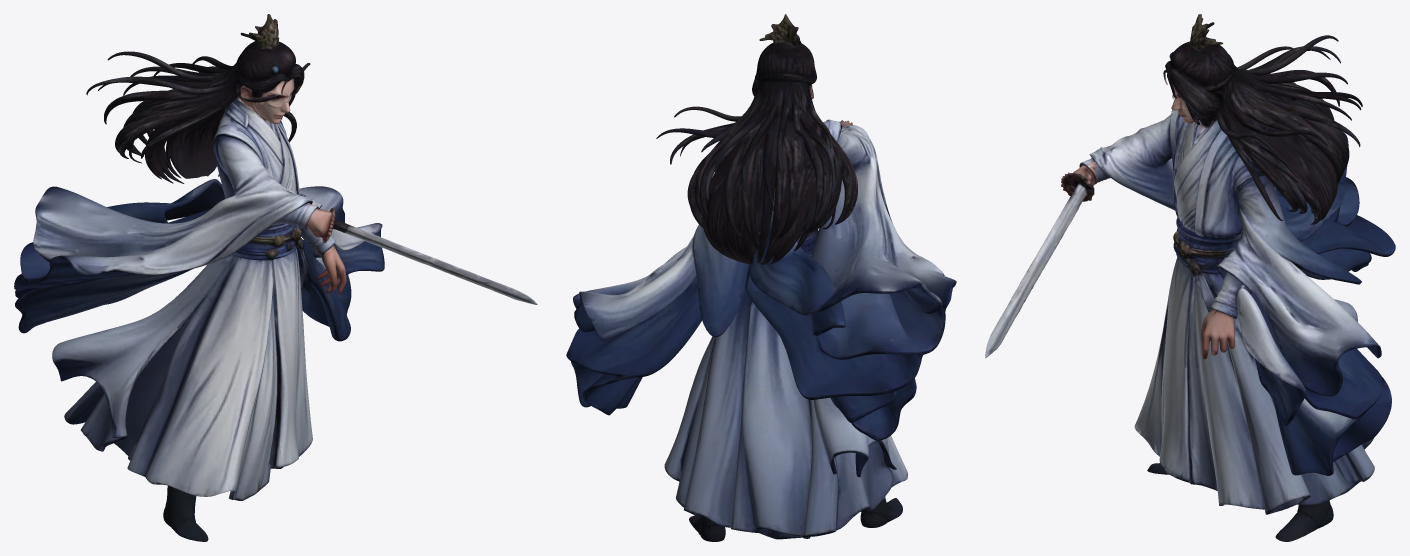
Rendered from zw_web.glb.
3 views of the same model, side by side, from view 1: azimuth 30°, elevation 25°; view 2: azimuth 150°, elevation 25°; view 3: azimuth 270°, elevation 25° (orthographic). The views are drawn at different scales.
Visible parts, largest first — view 1: node_0; view 2: node_0; view 3: node_0.
Boxes of the visible parts, box(x1,y1,x2,y2) form: node_0: box(14, 14, 537, 541); node_0: box(566, 14, 956, 541); node_0: box(985, 14, 1395, 541).
Bounding box in the file's own units: 0.8262 × 1.07 × 0.7922.
1 material, 1 textured.
